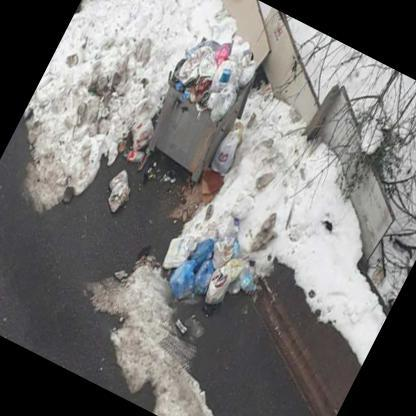Garbage: (155, 219, 268, 326), (170, 32, 256, 119), (113, 110, 162, 171), (96, 163, 146, 219), (208, 128, 246, 176)
